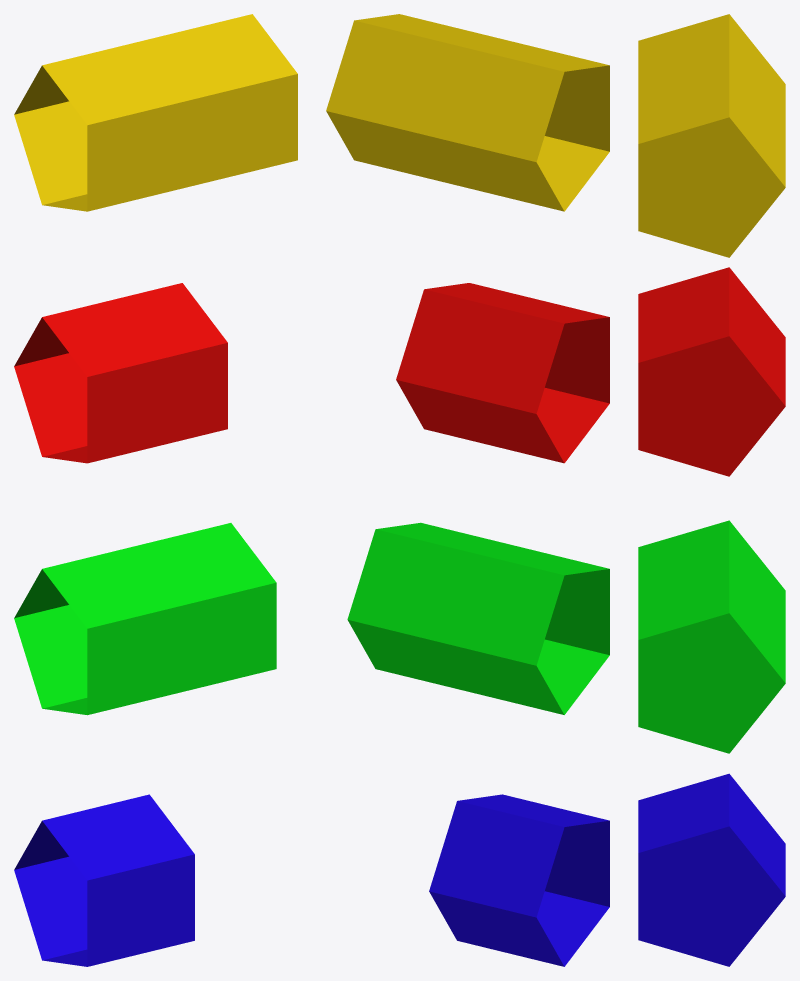
Rendered from electro_wire_sokets.fbx.
3 views of the same model, side by side, from view 1: azimuth 30°, elevation 25°; view 2: azimuth 150°, elevation 25°; view 3: azimuth 270°, elevation 25° (orthographic).
Parts seen in each view (by area): view 1: Cylinder.003; view 2: Cylinder.003; view 3: Cylinder.003.
Part boxes in pixels (<box>): Cylinder.003: <box>14,14,297,966</box>; Cylinder.003: <box>326,14,609,966</box>; Cylinder.003: <box>638,14,785,966</box>.
Bounding box in the file's own units: 12.4 × 50.41 × 7.49.
